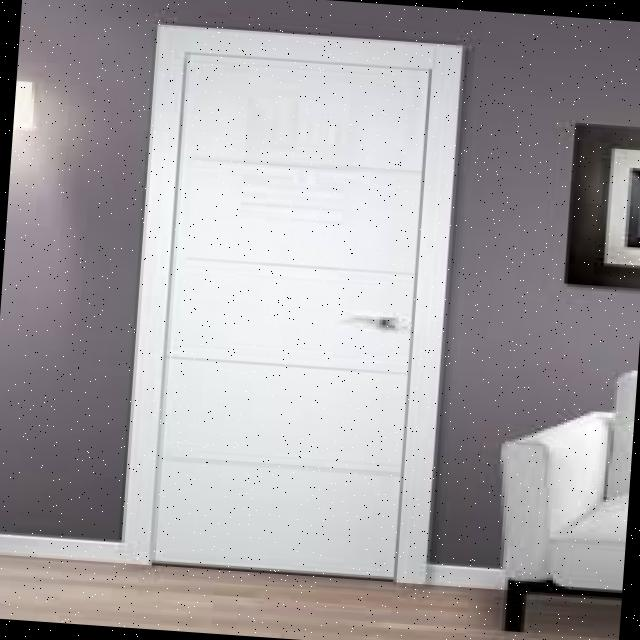Door: (142, 46, 440, 590)
